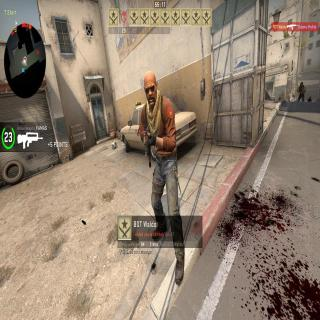T-Body: (138, 69, 186, 282), (297, 82, 307, 104)
T-Head: (143, 71, 158, 108), (300, 82, 304, 87)
